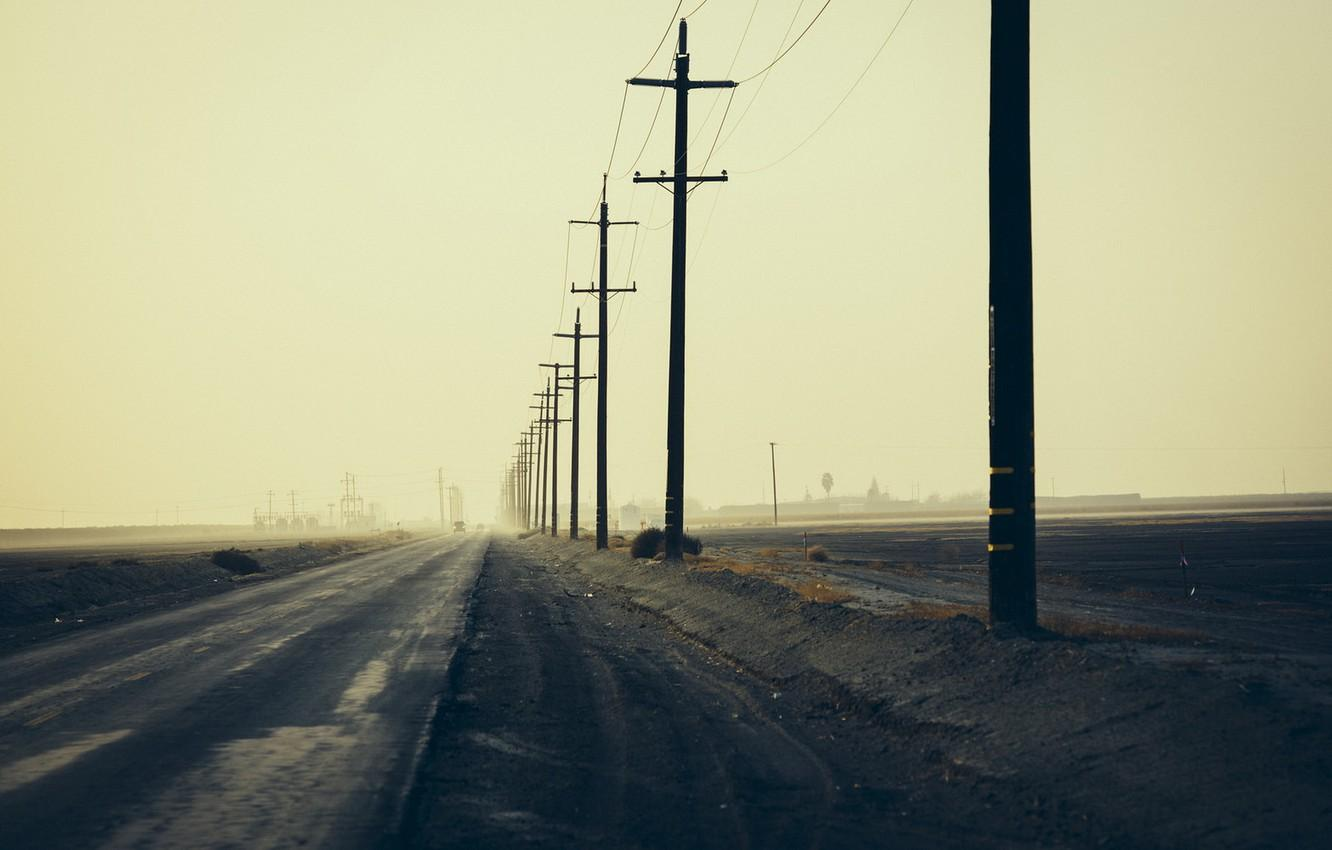Animal: (957, 0, 1071, 654), (622, 15, 753, 573), (569, 180, 658, 581), (552, 317, 613, 563)
